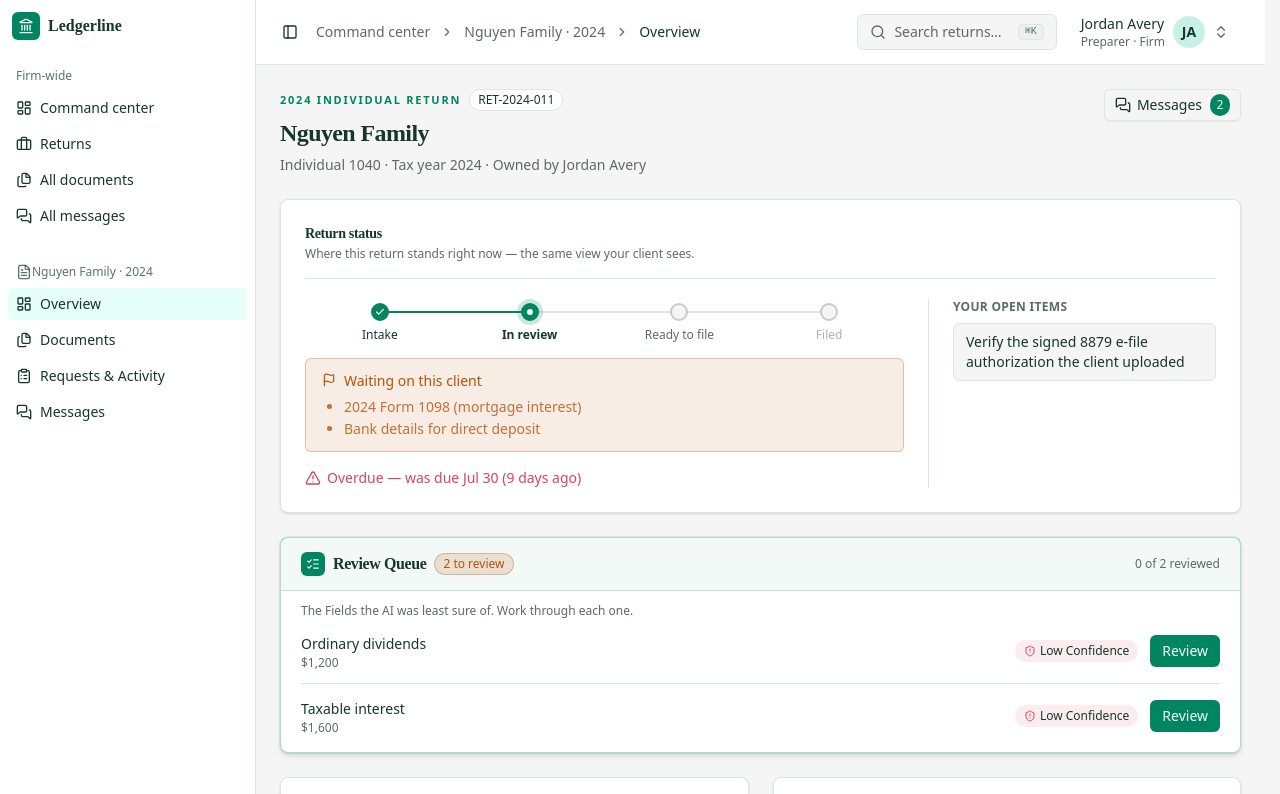
Test: ReturnReviewPage — header + contextual Areas › shows the Return status band on Overview only
Expected: the heading "Return status" is shown, [305,226,382,241]
Note: This Return's Documents Area (contextual tier), not the firm-wide pool nav.
Click the link "Documents". click: (66, 340)
box: [16,330,116,349]
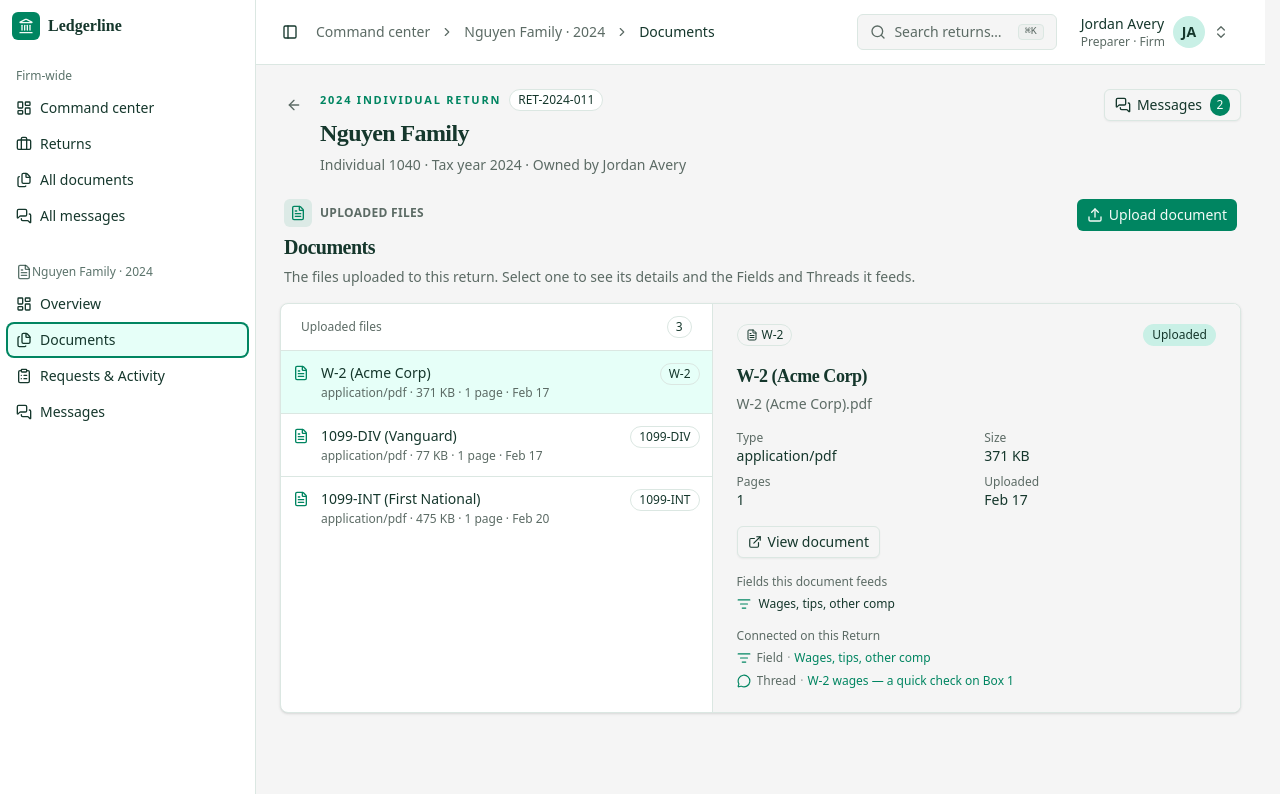
Expected: the heading "Return status" is gone
